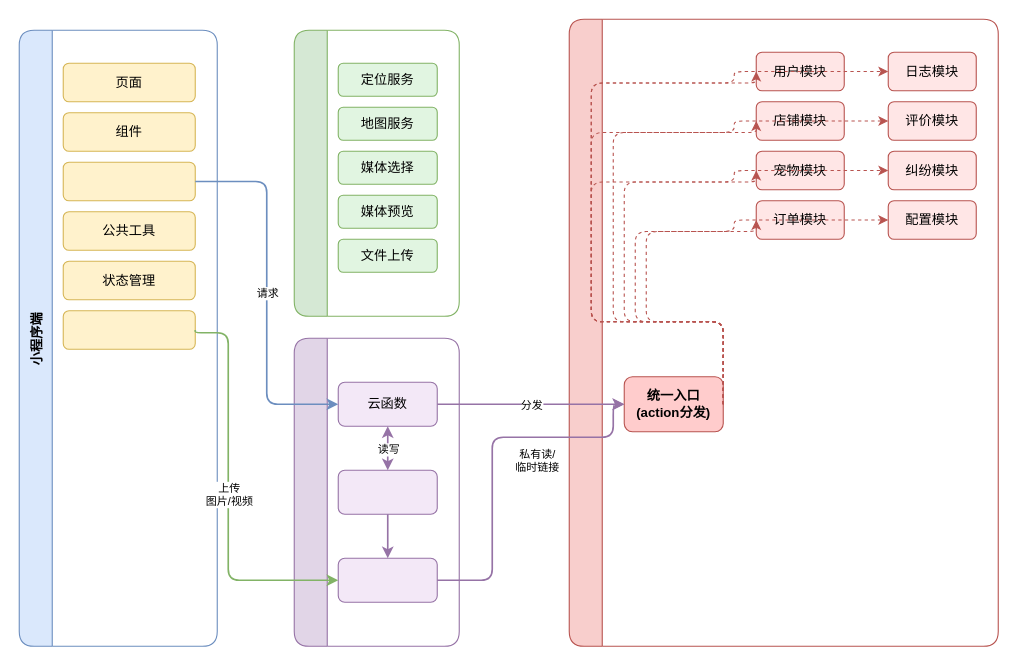
This 1018x666 diagram has some shape labels left out. Each missing label, with the box of its shape:
业务服务: (62, 161, 195, 201)
云函数业务域: (568, 18, 998, 646)
云存储: (337, 557, 437, 602)
云数据库: (337, 469, 437, 514)
微信云开发: (293, 337, 459, 646)
微信能力: (293, 29, 459, 316)
本地缓存: (62, 310, 195, 349)
